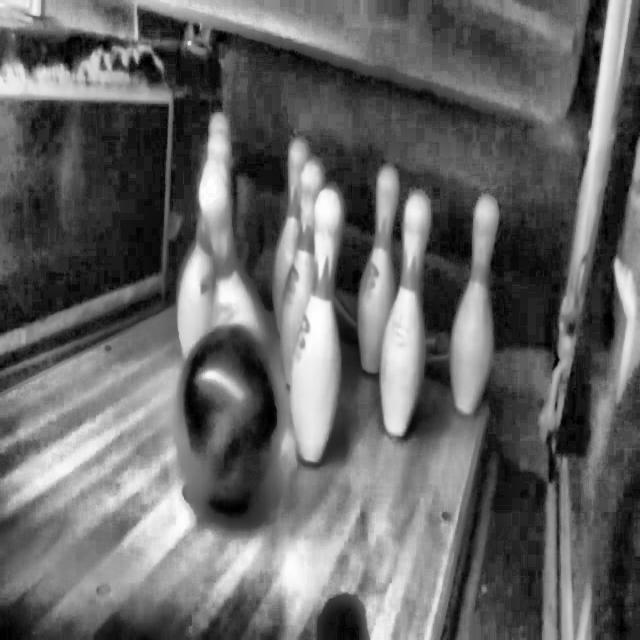bowling-ball: (180, 325, 280, 511)
bowling-pins: (292, 188, 342, 464), (381, 193, 430, 434), (452, 196, 498, 414), (281, 160, 322, 384), (358, 166, 398, 373), (273, 139, 308, 330), (358, 247, 395, 373)
